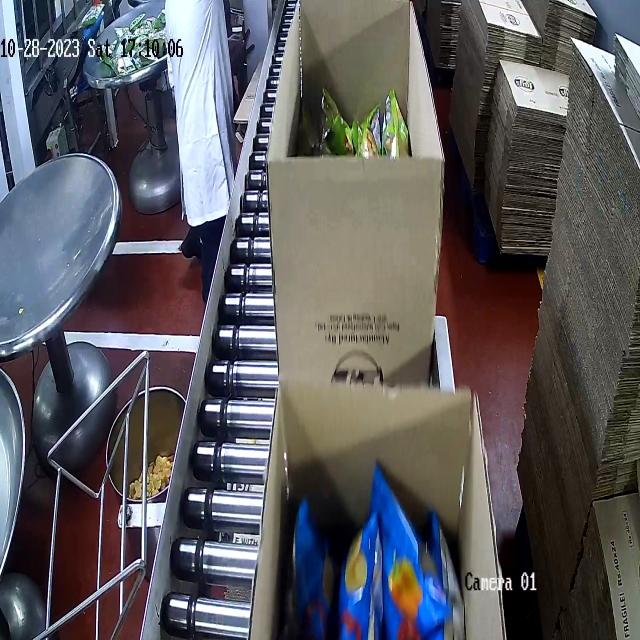PAPRIKA: (288, 455, 466, 640)
